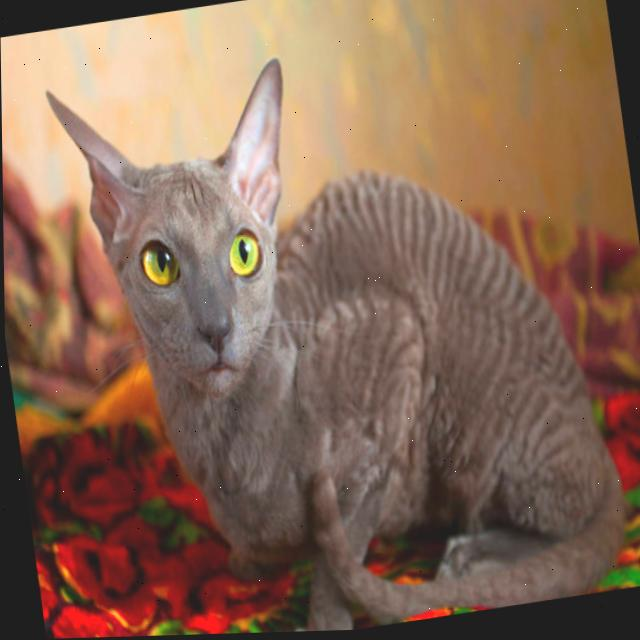Cornish Rex: (36, 1, 639, 639)
